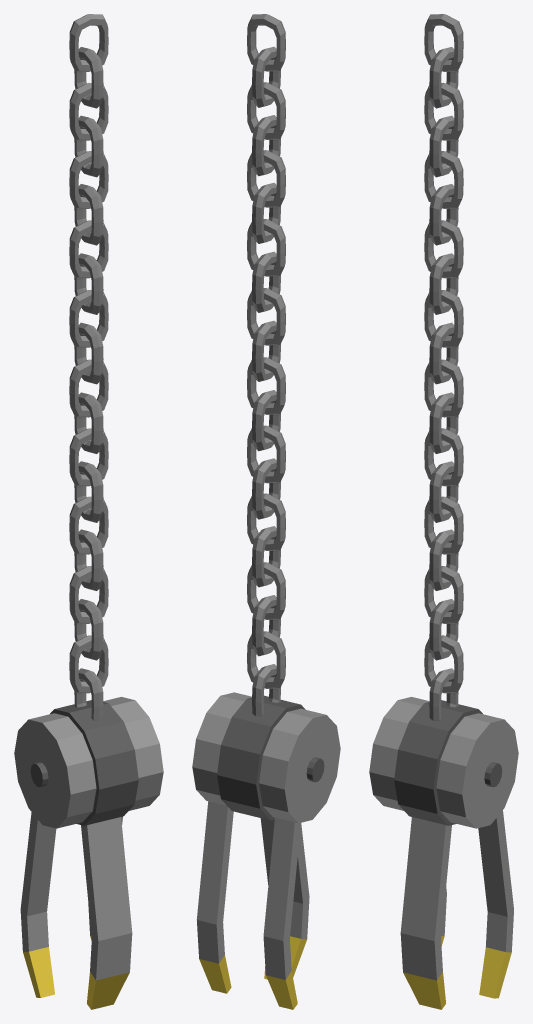
Rendered from dropClaw.fbx.
The picture shows the model from 3 angles, left to right: view 1: azimuth 30°, elevation 25°; view 2: azimuth 150°, elevation 25°; view 3: azimuth 330°, elevation 25°; orthographic projection.
Parts seen in each view (by area): view 1: Drop Claw; view 2: Drop Claw; view 3: Drop Claw.
Part boxes in pixels (left/top/right/bottom): Drop Claw: left=14, top=14, right=163, bottom=1009; Drop Claw: left=192, top=14, right=340, bottom=1009; Drop Claw: left=369, top=14, right=518, bottom=1009.
Size of the model in its own units: 25.4 by 25.42 by 229.
